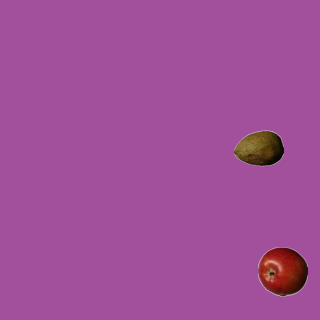Apple Braeburn: (257, 246, 307, 296)
Papaya: (233, 123, 283, 173)
